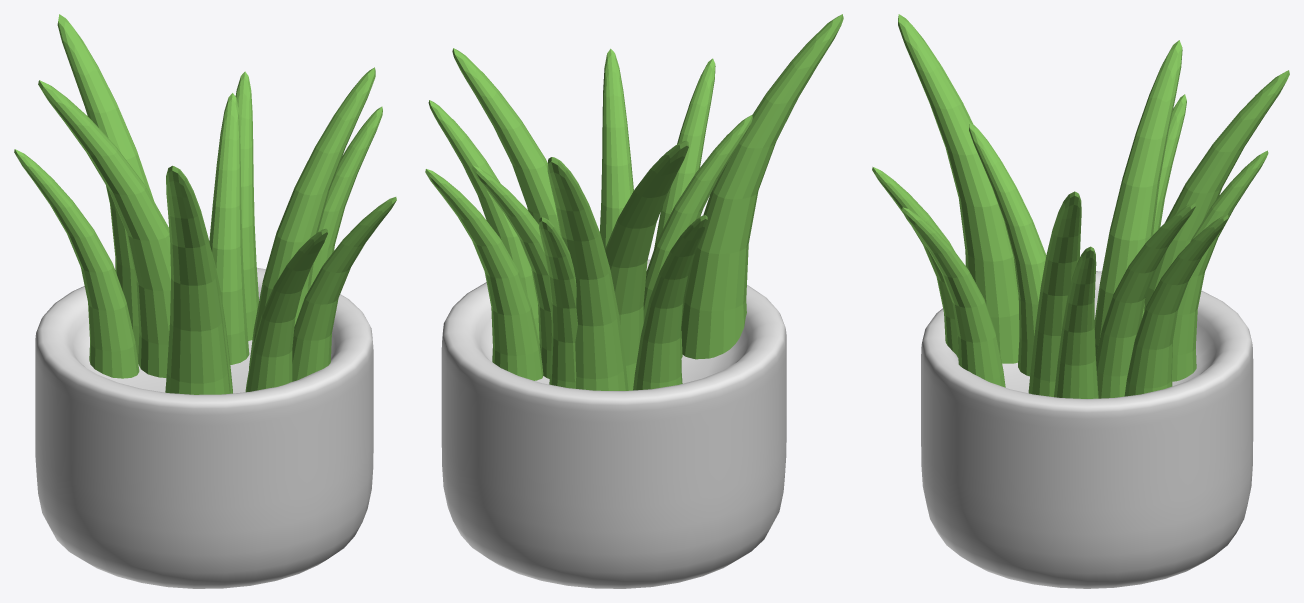
Rendered from plant03.fbx.
3 renders of one model, left to right at view 1: azimuth 30°, elevation 25°; view 2: azimuth 150°, elevation 25°; view 3: azimuth 270°, elevation 25°, orthographic. The views are drawn at different scales.
Visible parts, largest first — view 1: Cylinder.005, Cube.021, Cube.026, Cube.015, Cube.023, Cube.024, Cube.025, Cube.019, Cube.020, Cube.017, Cube.018; view 2: Cylinder.005, Cube.021, Cube.025, Cube.017, Cube.026, Cube.015, Cube.023, Cube.019, Cube.016, Cube.022, Cube.018, Cube.024 (+1 smaller); view 3: Cylinder.005, Cube.021, Cube.026, Cube.024, Cube.017, Cube.025, Cube.023, Cube.022, Cube.019, Cube.018, Cube.016, Cube.020 (+1 smaller).
Boxes of the visible parts, x1,y1,x2,y2 form: Cylinder.005: (35, 268, 373, 588); Cube.021: (165, 165, 230, 394); Cube.026: (38, 80, 170, 377); Cube.015: (14, 149, 139, 378); Cube.023: (249, 67, 375, 368); Cube.024: (209, 93, 249, 364); Cube.025: (57, 14, 153, 361); Cube.019: (292, 197, 396, 381); Cube.020: (245, 228, 327, 392); Cube.017: (235, 71, 258, 340); Cube.018: (311, 106, 382, 285); Cylinder.005: (441, 259, 786, 588); Cube.021: (681, 14, 843, 359); Cube.025: (547, 157, 628, 390); Cube.017: (425, 169, 543, 380); Cube.026: (605, 140, 688, 390); Cube.015: (633, 215, 707, 390); Cube.023: (452, 48, 560, 234); Cube.019: (600, 48, 633, 249); Cube.016: (539, 217, 577, 388); Cube.022: (643, 115, 752, 358); Cube.018: (428, 100, 539, 343); Cube.024: (472, 166, 551, 378); Cylinder.005: (921, 271, 1253, 588); Cube.021: (898, 14, 1019, 363); Cube.026: (1094, 40, 1182, 356); Cube.024: (1096, 203, 1195, 398); Cube.017: (1124, 214, 1228, 396); Cube.025: (1144, 70, 1289, 310); Cube.023: (1028, 191, 1081, 396); Cube.022: (969, 123, 1046, 376); Cube.019: (902, 207, 1005, 387); Cube.018: (1054, 246, 1098, 398); Cube.016: (1172, 150, 1268, 381); Cube.020: (872, 167, 958, 357).
Size of the model in its own units: 60.29 by 83.03 by 68.15.
